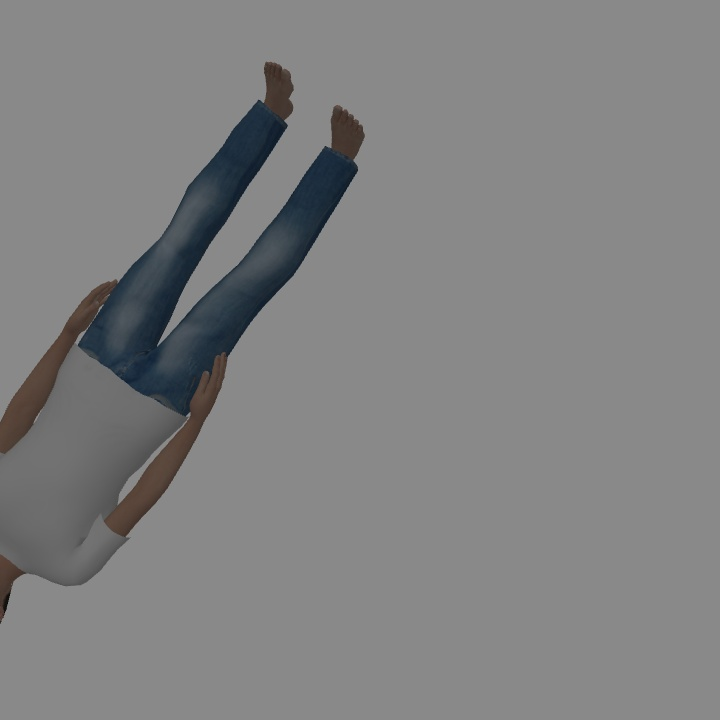victim: (1, 60, 367, 624)
